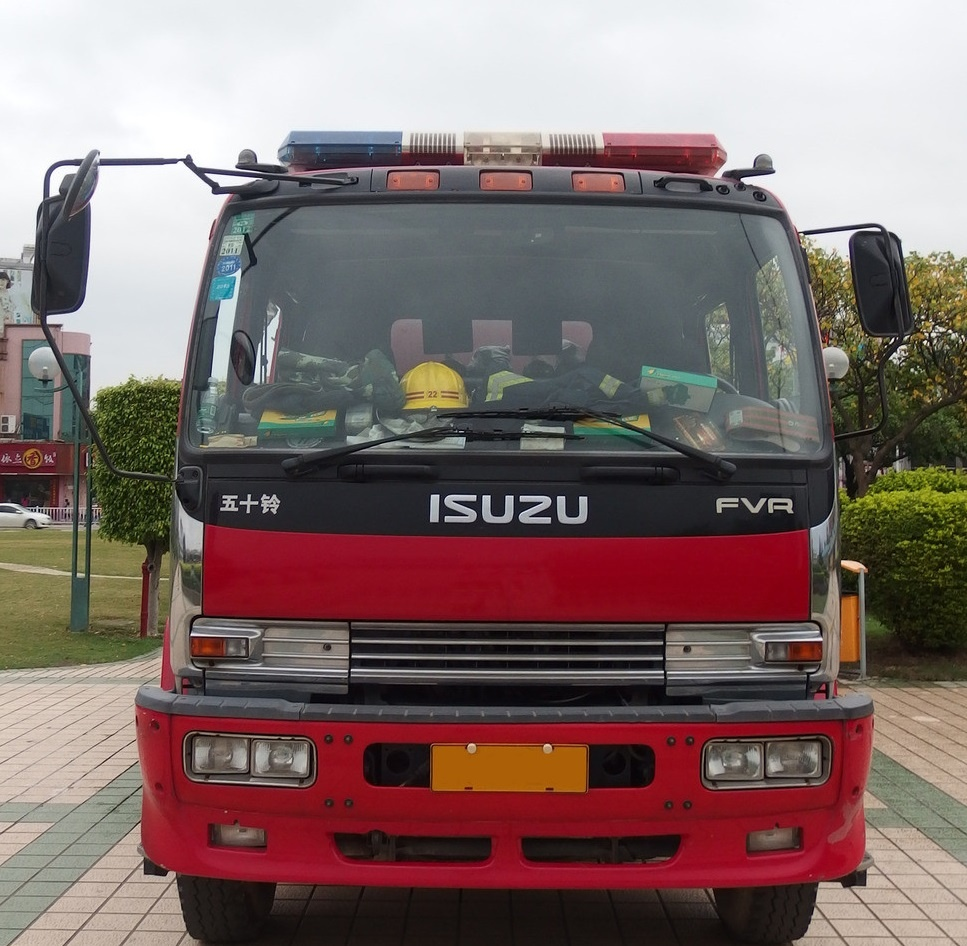fire engine: (40, 115, 926, 936)
